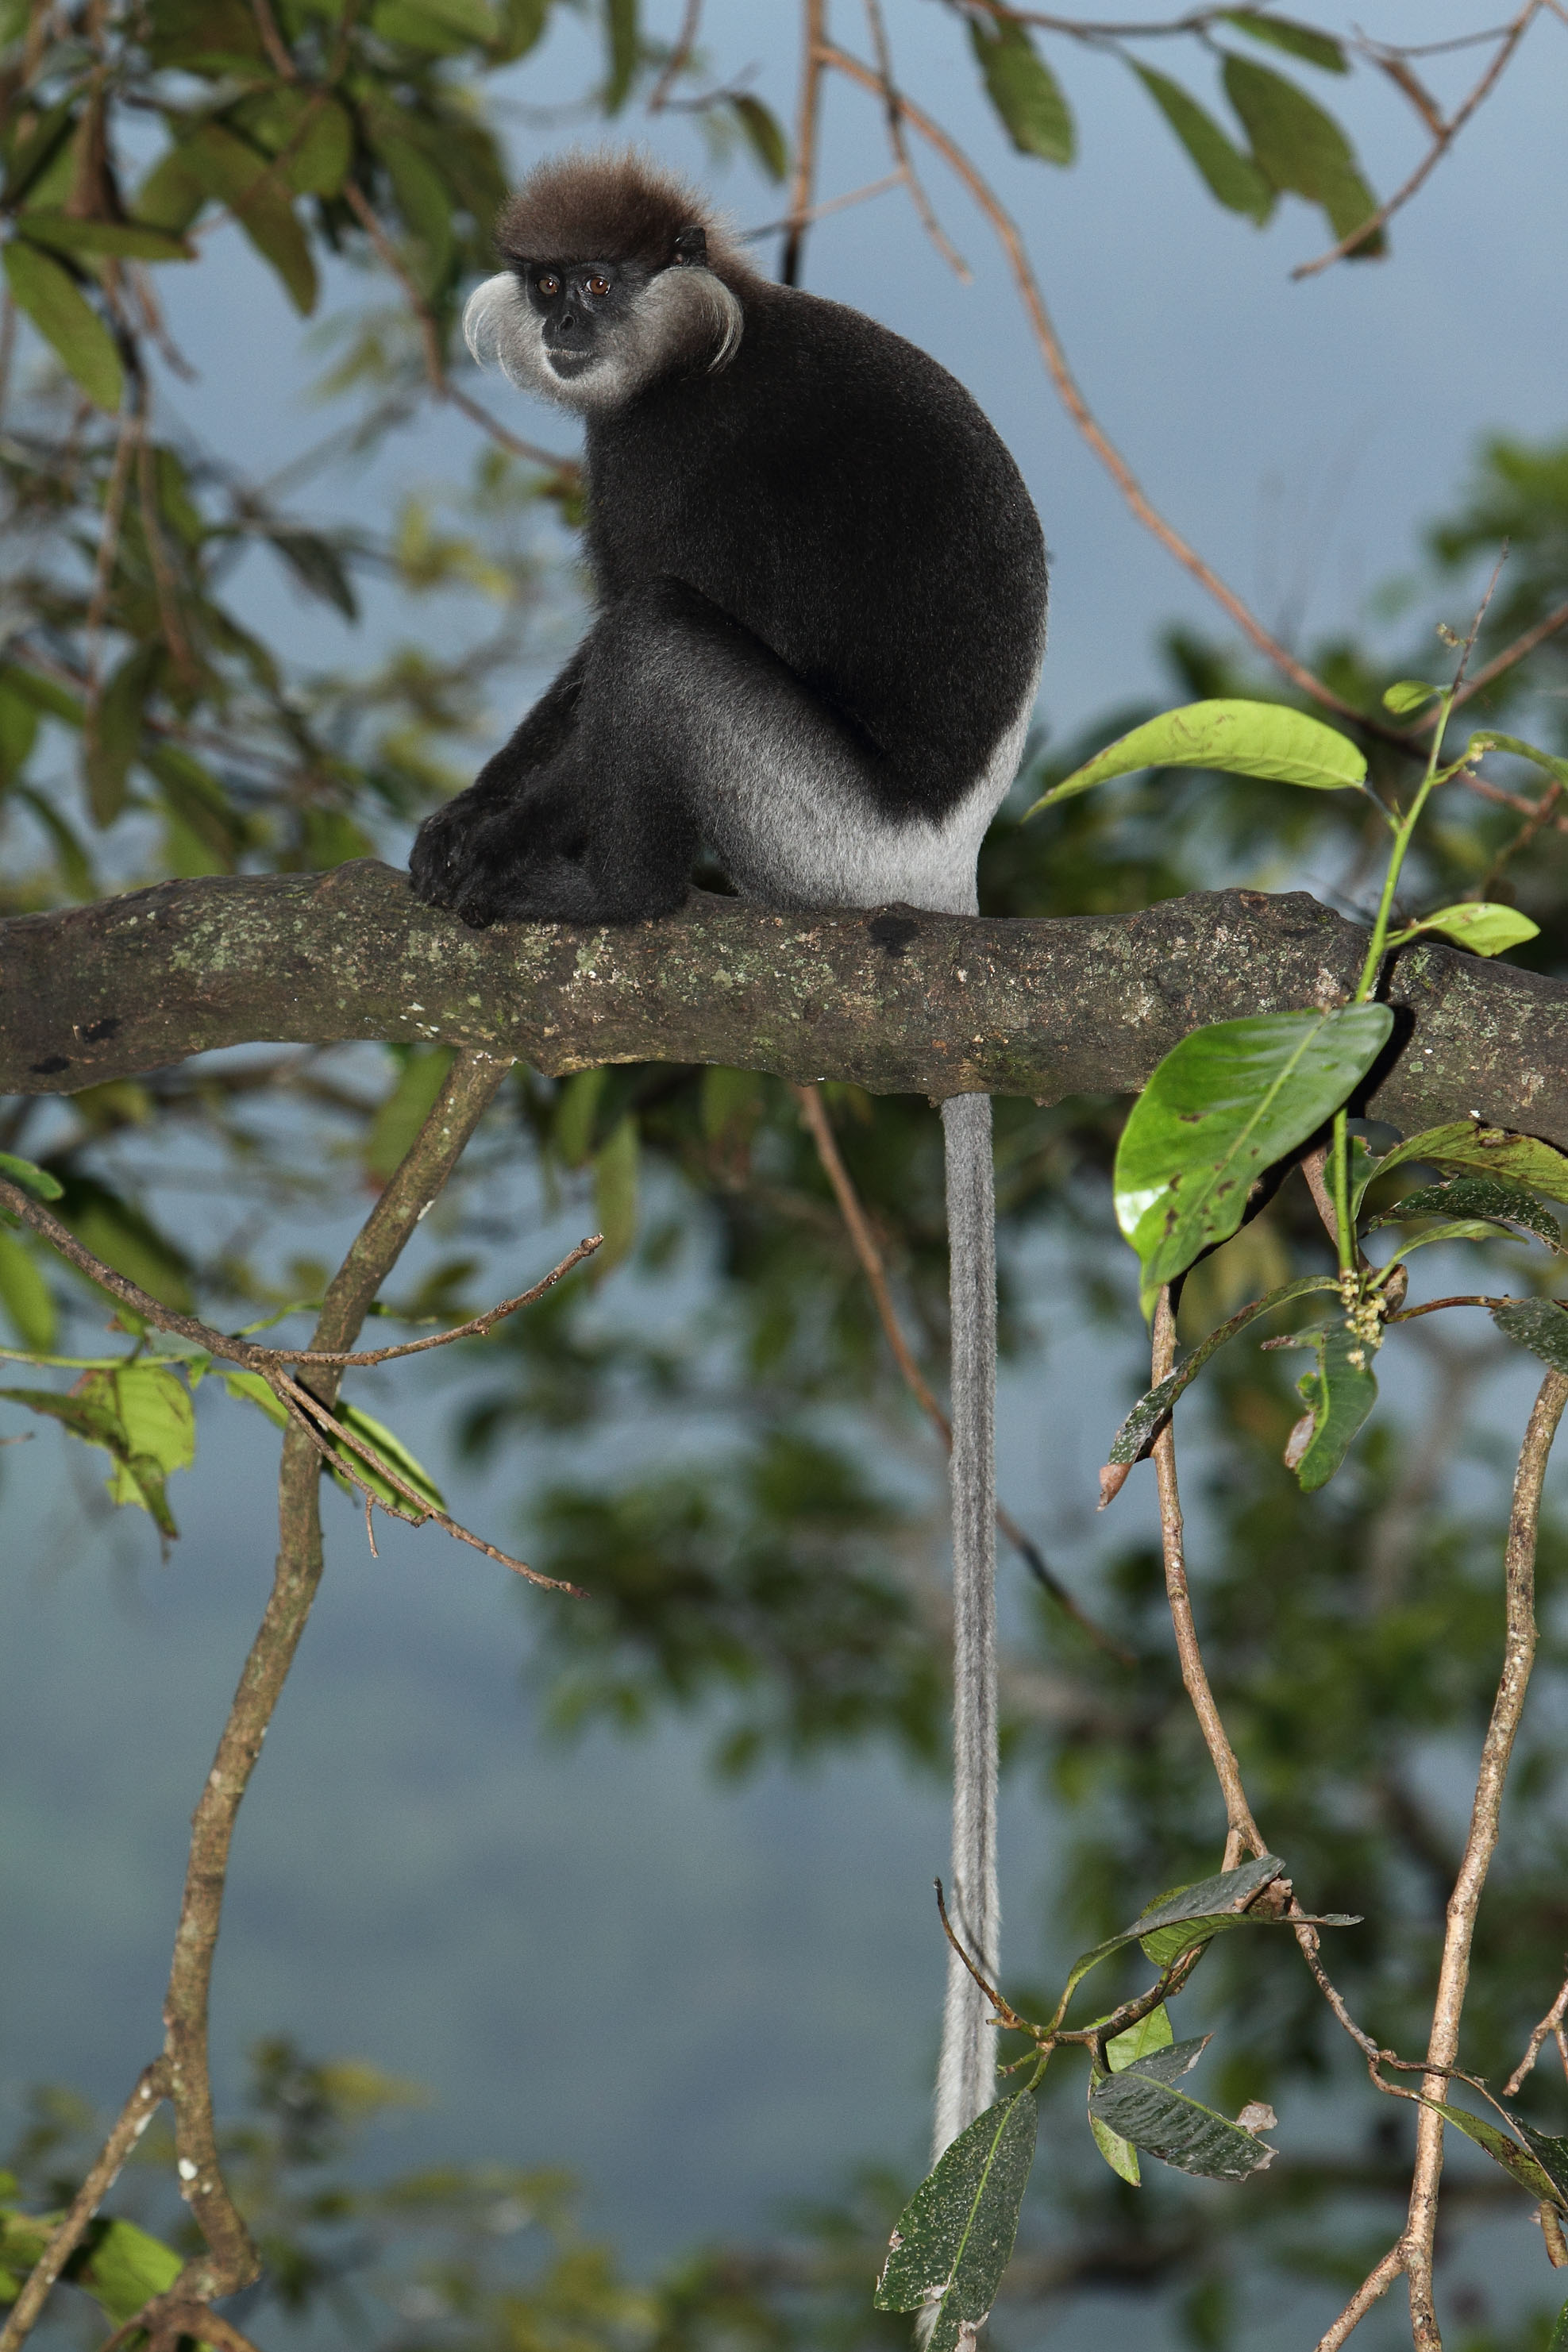Monkey: (401, 89, 1118, 1024)
